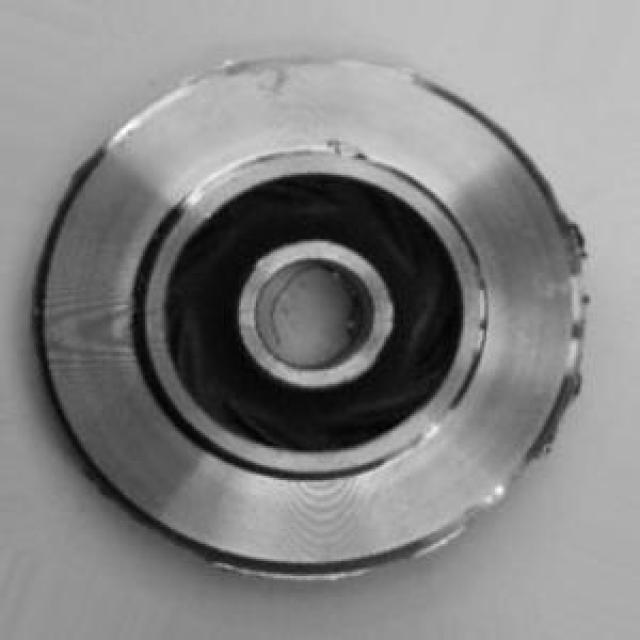Defect: (541, 367, 588, 446)
